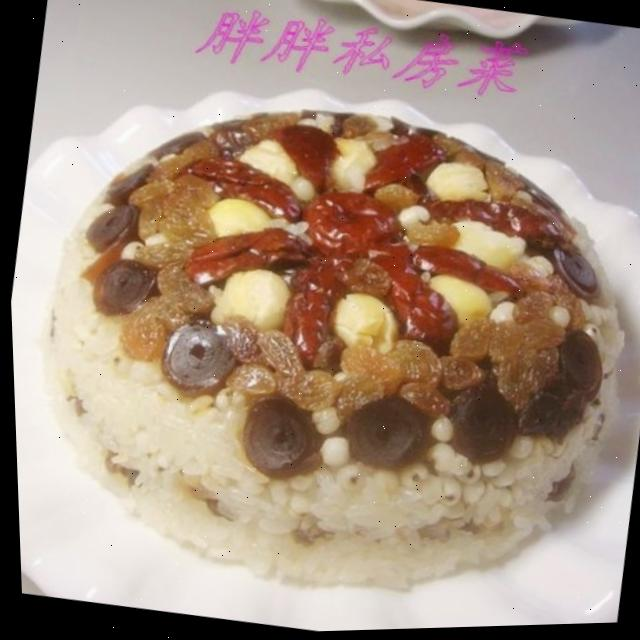米饭主食: (1, 3, 640, 640)
